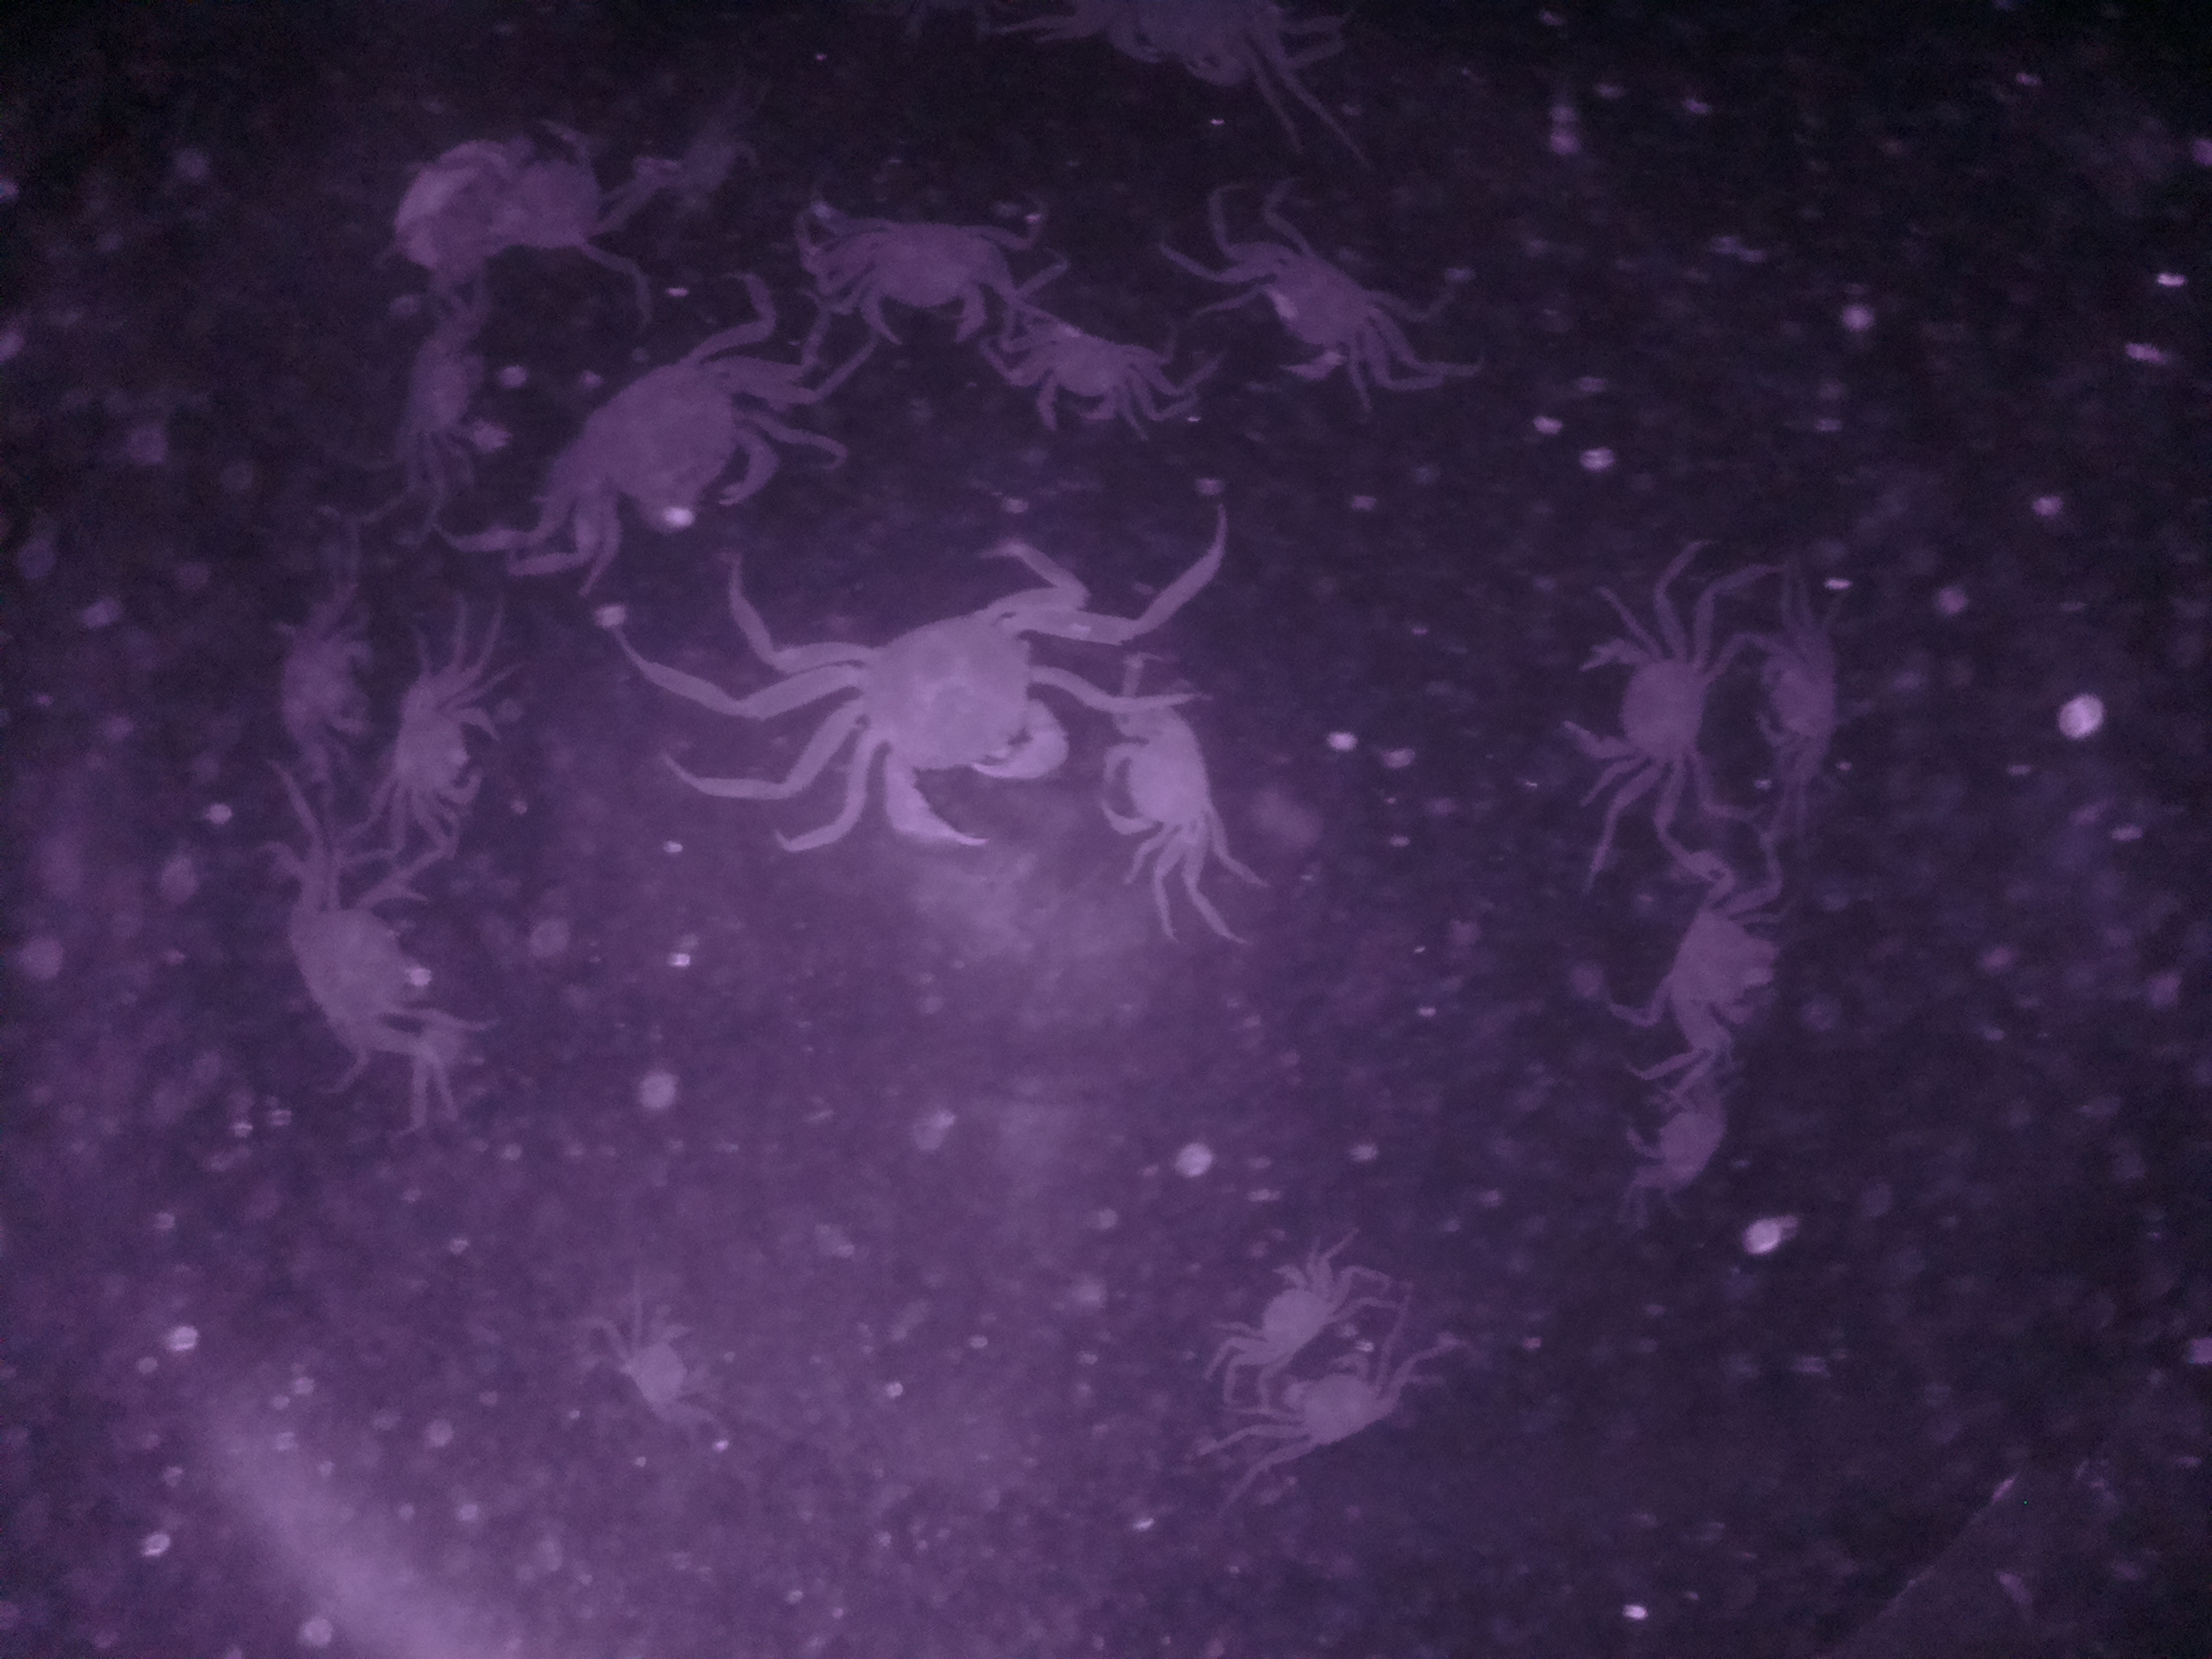Crab: (826, 572, 1071, 859), (547, 340, 794, 556), (1541, 589, 1738, 817), (1217, 218, 1420, 399), (1629, 882, 1794, 1061), (796, 214, 1012, 345), (1217, 1330, 1414, 1473), (1743, 594, 1883, 777), (1087, 694, 1231, 870), (1005, 308, 1181, 443), (371, 662, 509, 821), (1204, 1243, 1348, 1387), (613, 1307, 718, 1431)
